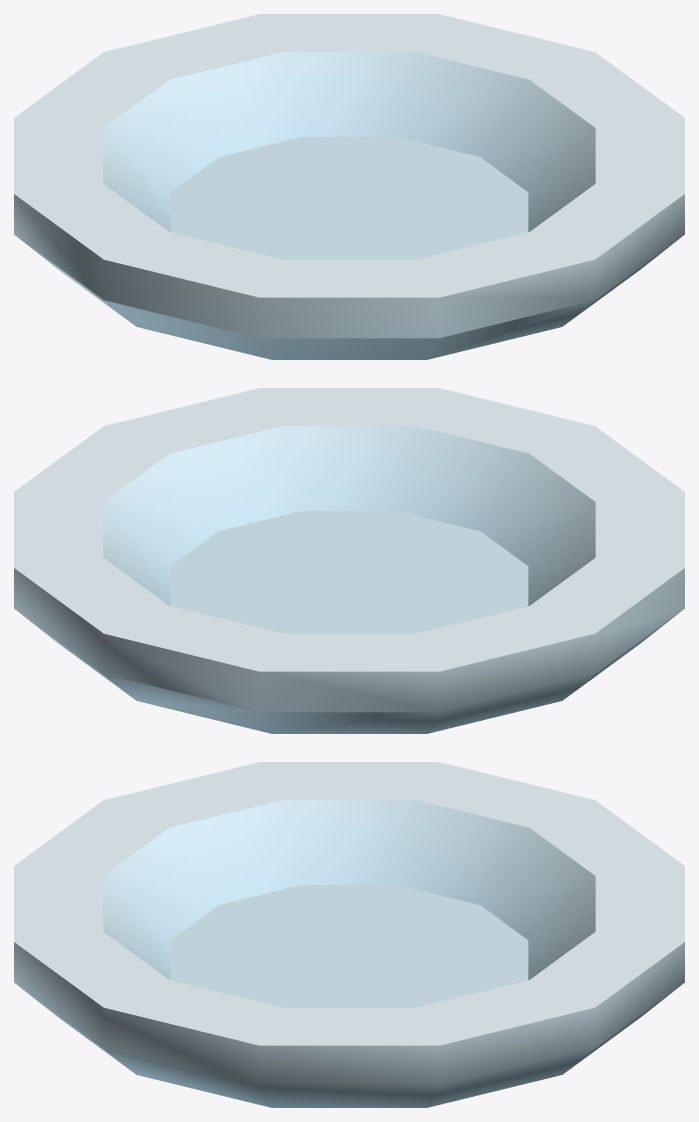
The model's file is plate_small_white.glb.
3 renders of one model, top to bottom at view 1: azimuth 30°, elevation 25°; view 2: azimuth 150°, elevation 25°; view 3: azimuth 270°, elevation 25°, orthographic.
Visible parts, largest first — view 1: plate_small_white; view 2: plate_small_white; view 3: plate_small_white.
Boxes of the visible parts, x1,y1,x2,y2 form: plate_small_white: (14, 14, 684, 359); plate_small_white: (14, 388, 684, 733); plate_small_white: (14, 762, 684, 1107).
Bounding box in the file's own units: 0.75 × 0.1 × 0.75.
1 material, 1 textured.
